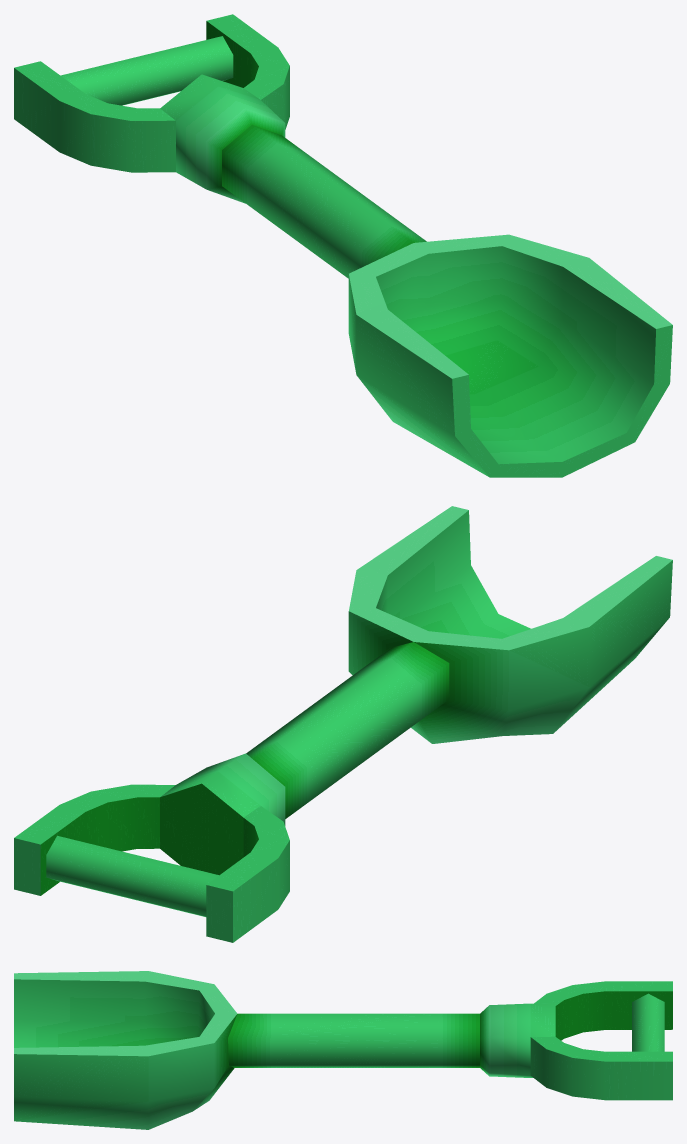
The model's file is SM_Beach_Spade.fbx.
3 views of the same model, one above another, from view 1: azimuth 30°, elevation 25°; view 2: azimuth 150°, elevation 25°; view 3: azimuth 270°, elevation 25° (orthographic). The views are drawn at different scales.
Visible parts, largest first — view 1: SM_Beach_Spade; view 2: SM_Beach_Spade; view 3: SM_Beach_Spade.
Boxes of the visible parts, x1=… form: SM_Beach_Spade: x1=14, y1=14, x2=672, y2=477; SM_Beach_Spade: x1=14, y1=506, x2=672, y2=942; SM_Beach_Spade: x1=14, y1=971, x2=672, y2=1129.
Size of the model in its own units: 18.94 by 11.48 by 61.82.
